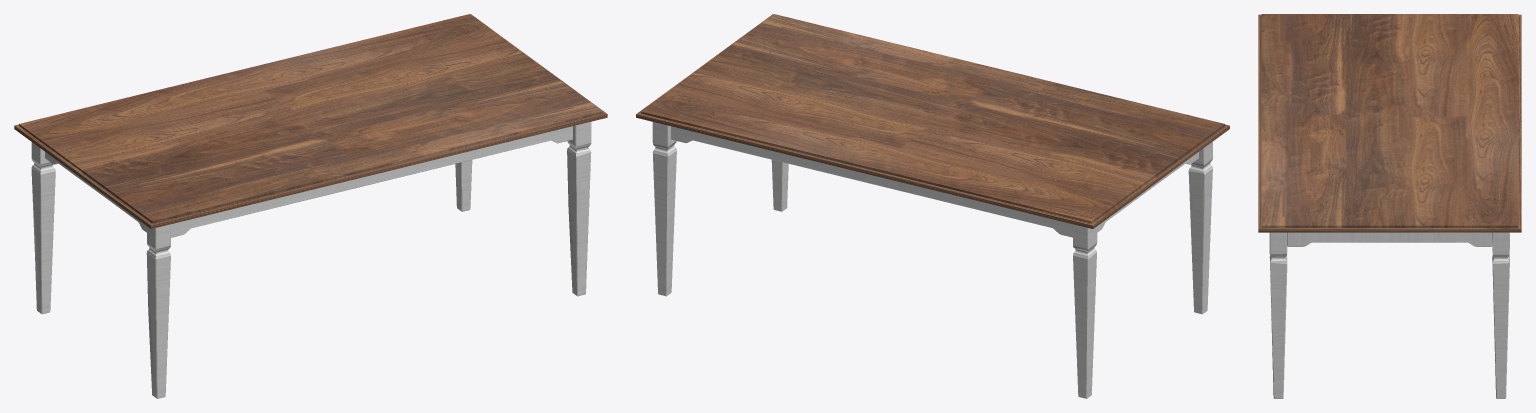
The model's file is Table 1.FBX.
3 renders of one model, left to right at view 1: azimuth 30°, elevation 25°; view 2: azimuth 150°, elevation 25°; view 3: azimuth 270°, elevation 25°, orthographic. The views are drawn at different scales.
Visible parts, largest first — view 1: Table 1; view 2: Table 1; view 3: Table 1.
Boxes of the visible parts, x1,y1,x2,y2 form: Table 1: [14, 14, 607, 398]; Table 1: [636, 14, 1229, 398]; Table 1: [1258, 14, 1521, 398].
Size of the model in its own units: 257 by 134 by 99.72.
1 material, 1 textured.
